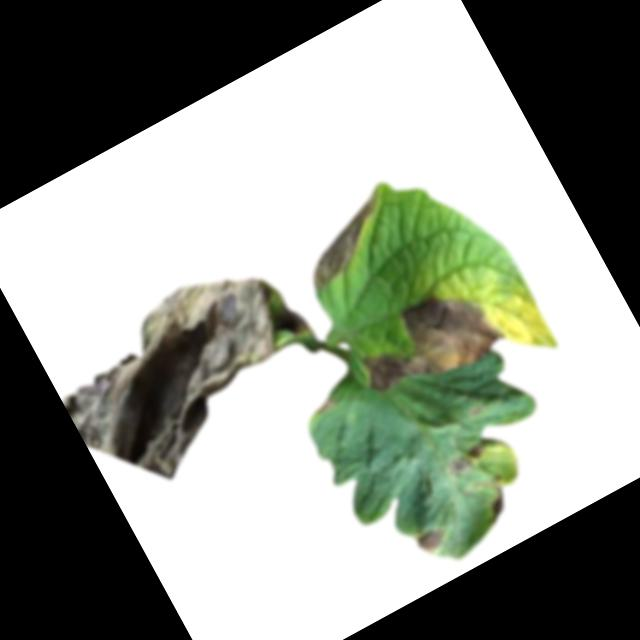Early_blight: (42, 242, 342, 508), (346, 271, 510, 413), (287, 189, 404, 292), (443, 439, 492, 481), (478, 483, 515, 523), (411, 521, 451, 557), (312, 393, 340, 417), (467, 403, 486, 421)
